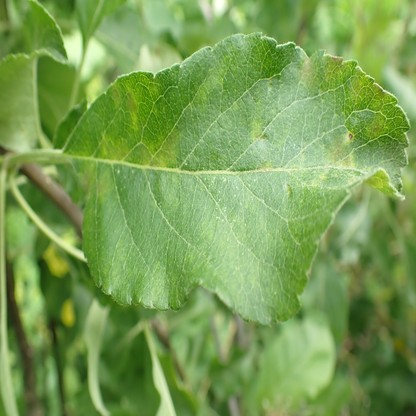scab: (142, 129, 180, 166), (79, 164, 111, 201), (111, 81, 139, 116), (326, 133, 352, 168), (103, 134, 129, 161), (322, 57, 341, 81), (252, 118, 268, 141), (368, 119, 384, 142), (299, 57, 311, 84), (349, 80, 361, 106), (286, 183, 291, 196)
